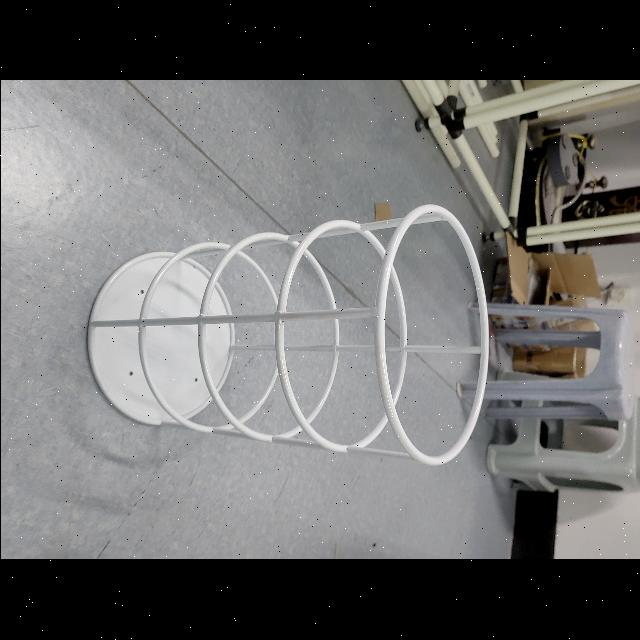S: (78, 198, 494, 472)
